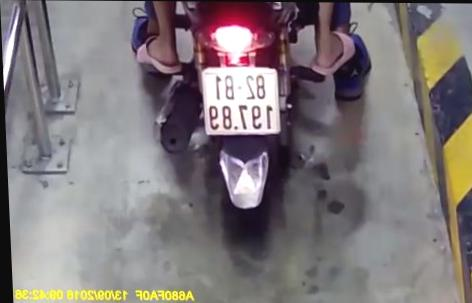License_Plate: (203, 62, 283, 141)
